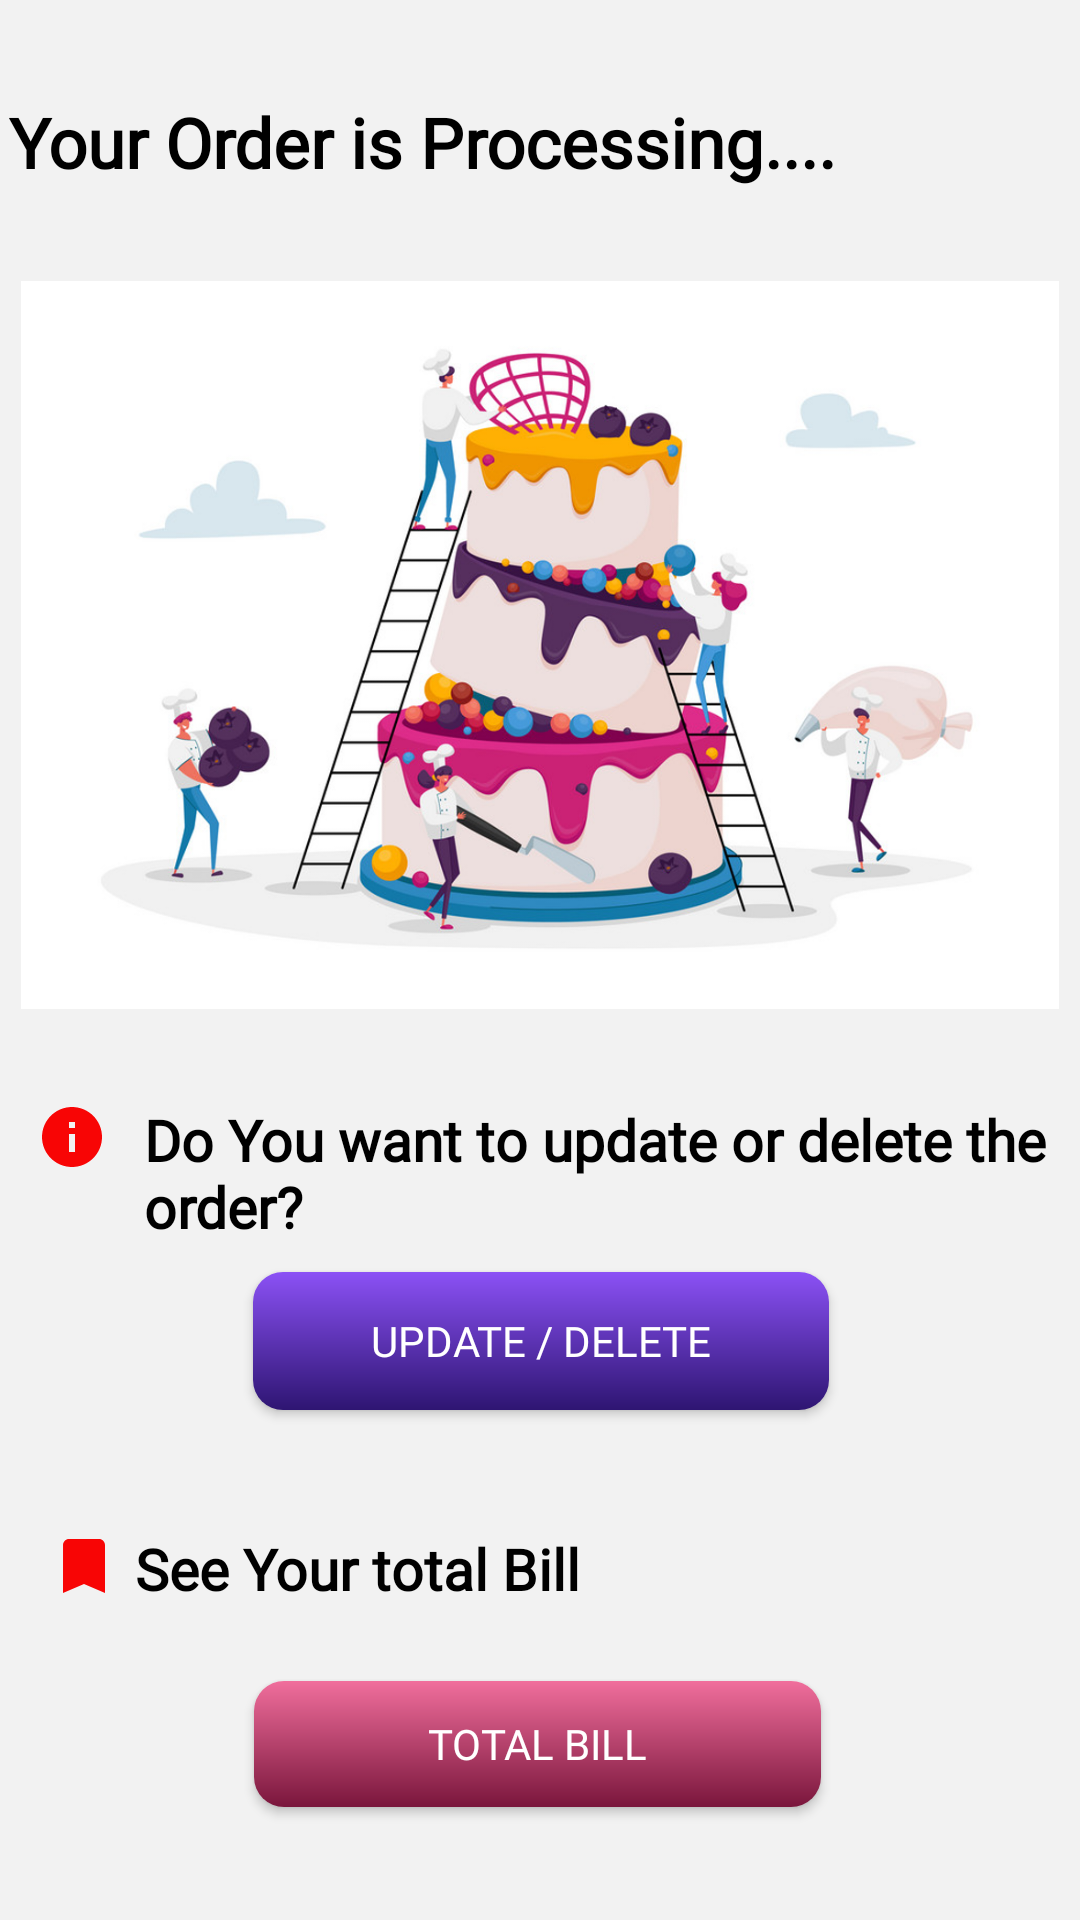

Locate icon controls on the screen. Image size 1080*1920, boxes as (x1, y1, x2, y2).
bookmark: (63, 1539, 105, 1593)
info: (42, 1107, 102, 1167)
